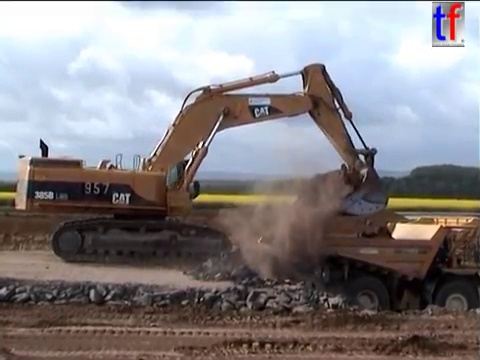excavator: (10, 60, 392, 266)
truck: (254, 213, 480, 329)
